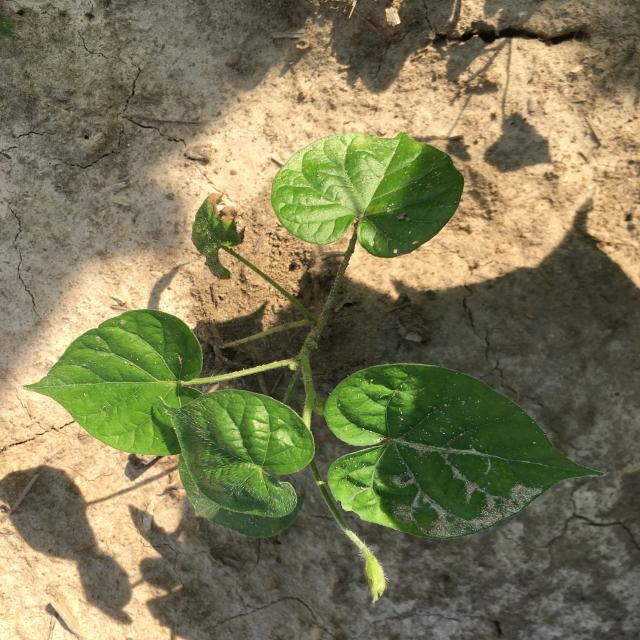MorningGlory: (21, 130, 607, 604)
